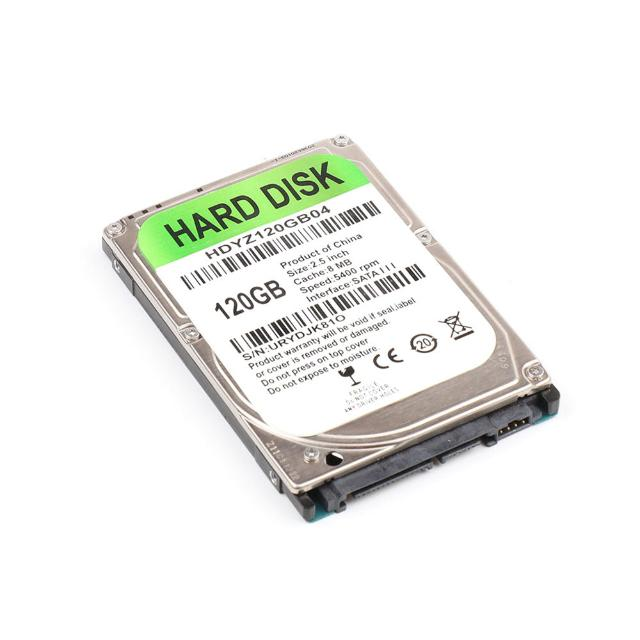HDD: (101, 135, 561, 524)
